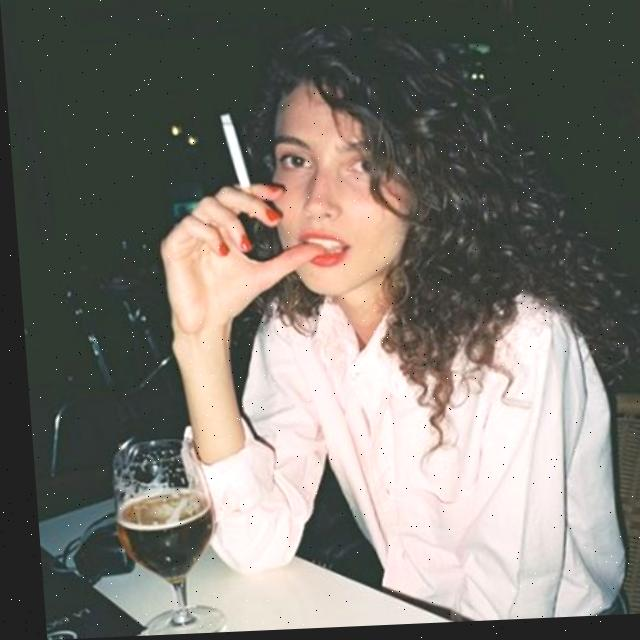cigarette: (218, 115, 249, 197)
